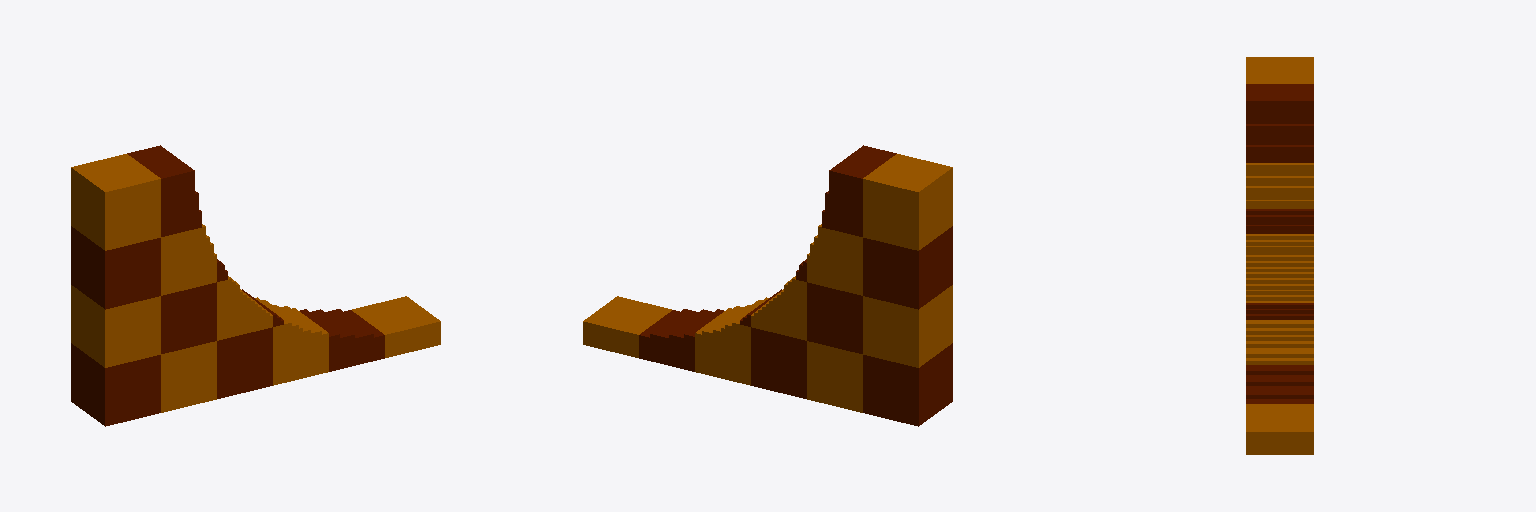
3 renders of one model, left to right at view 1: azimuth 30°, elevation 25°; view 2: azimuth 150°, elevation 25°; view 3: azimuth 270°, elevation 25°, orthographic.
Visible parts, largest first — view 1: object 1; view 2: object 1; view 3: object 1.
Boxes of the visible parts, x1,y1,x2,y2 form: object 1: [71, 145, 440, 426]; object 1: [583, 145, 952, 426]; object 1: [1246, 57, 1313, 454].
Bounding box in the file's own units: 9 × 6 × 1.6.
1 materials, 1 textured.